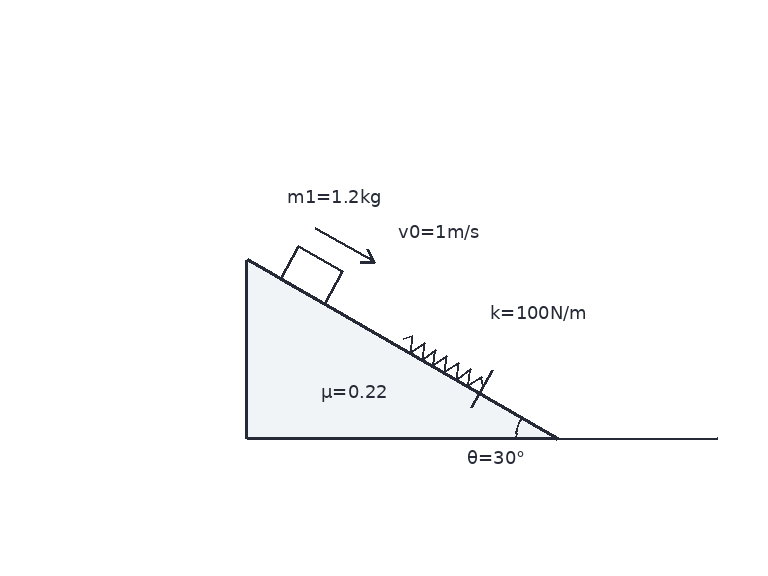block: (278, 244, 344, 306)
ramp: (245, 258, 558, 440)
spring: (401, 334, 485, 388)
